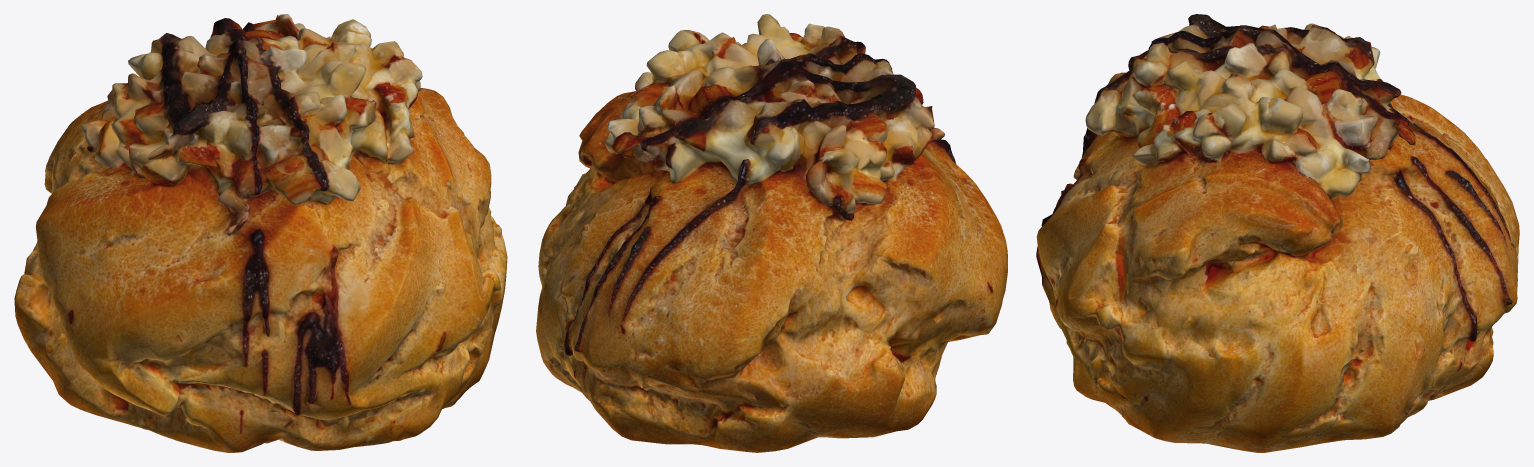
The picture shows the model from 3 angles, left to right: view 1: azimuth 30°, elevation 25°; view 2: azimuth 150°, elevation 25°; view 3: azimuth 270°, elevation 25°; orthographic projection. The views are drawn at different scales.
Visible parts, largest first — view 1: Object_2; view 2: Object_2; view 3: Object_2.
Boxes of the visible parts, left/top/right/bottom form: Object_2: left=14, top=14, right=507, bottom=452; Object_2: left=536, top=14, right=1007, bottom=452; Object_2: left=1036, top=14, right=1519, bottom=452.
Size of the model in its own units: 0.0798 by 0.0612 by 0.08.
Materials: 1 (1 with a texture image).
